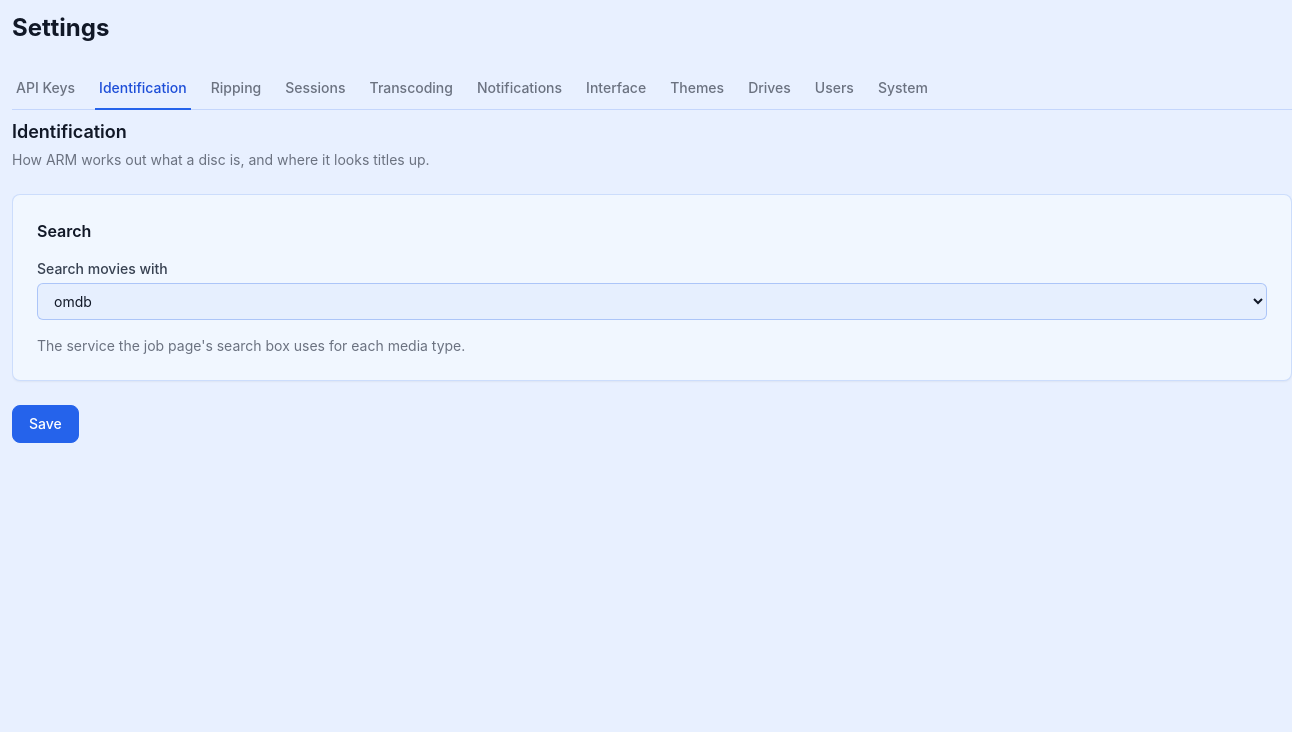
Scenario: Settings Page › rendering › renders the Interface tab with the stats toggle and dashboard layout
Expected: the dropdown named "search movies with" is shown, left=37, top=283, right=1267, bottom=320
Click the tab "Interface". click: click(616, 89)
box: left=582, top=68, right=650, bottom=110
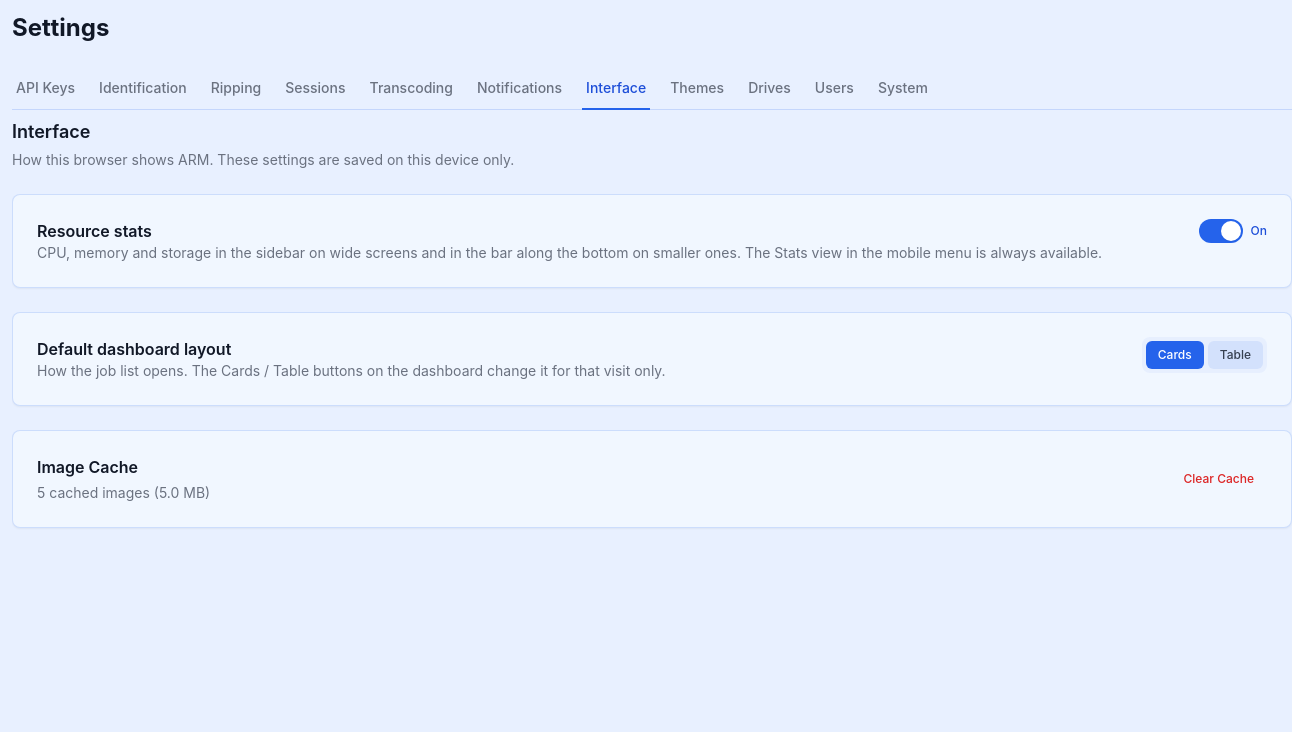
Expected: the switch named "show resource stats" is shown, left=1199, top=219, right=1243, bottom=243
Expected: the radio button labelled "Cards" is shown, left=1146, top=341, right=1204, bottom=369
Expected: the radio button labelled "Table" is shown, left=1208, top=341, right=1263, bottom=369
